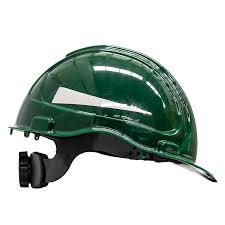Casco de seguridad: (8, 40, 221, 200)
